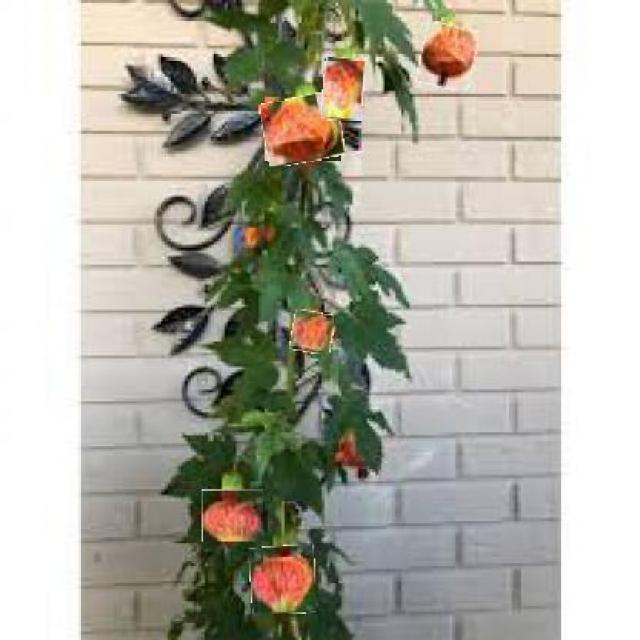Flower: (262, 94, 344, 165), (250, 546, 316, 615), (418, 24, 478, 90), (202, 489, 265, 543), (323, 58, 366, 121), (292, 312, 335, 355)
